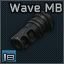Daniel Defense WAVE 5.56x45 muzzle brake: (0, 0, 64, 64)
